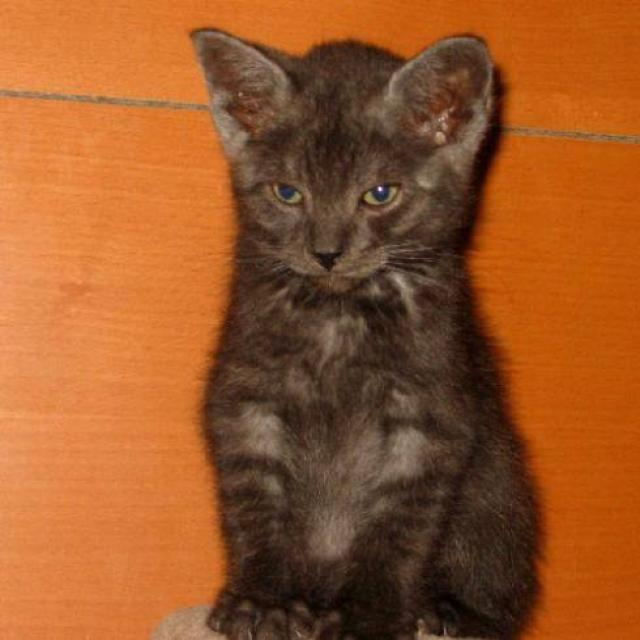cat: (188, 26, 543, 638)
